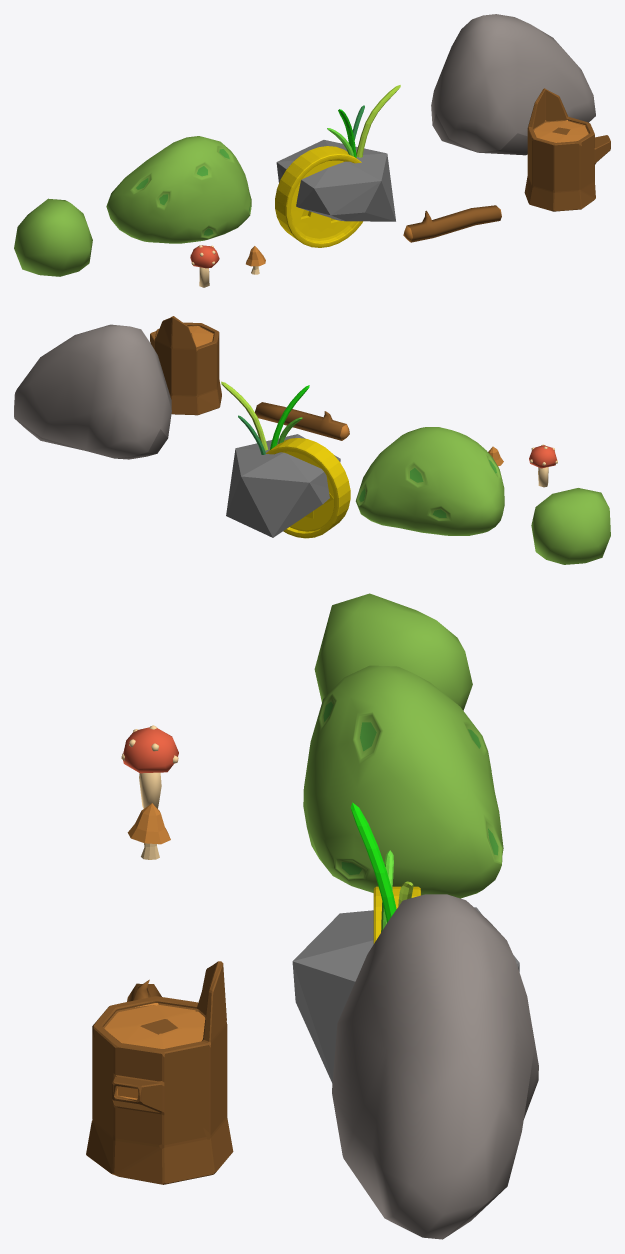
The model's file is pack.fbx.
The picture shows the model from 3 angles, top to bottom: view 1: azimuth 30°, elevation 25°; view 2: azimuth 150°, elevation 25°; view 3: azimuth 270°, elevation 25°; orthographic projection. The views are drawn at different scales.
Parts seen in each view (by area): view 1: Rock4, Bush1, Stump1, Rock1, Bush2, coin, Branch, Cube.002, Mushroom1; view 2: Rock4, Bush1, Rock1, Stump1, Bush2, coin, Branch, Cube.002, Mushroom1; view 3: Rock4, Bush1, Stump1, Bush2, Rock1, Mushroom1, Cube.002, Mushroom2.
Part boxes in pixels (bbox=[...]): Rock4: bbox=[431, 14, 595, 155]; Bush1: bbox=[106, 136, 251, 243]; Stump1: bbox=[524, 88, 610, 211]; Rock1: bbox=[276, 140, 395, 221]; Bush2: bbox=[14, 198, 92, 276]; coin: bbox=[275, 146, 362, 247]; Branch: bbox=[403, 205, 501, 242]; Cube.002: bbox=[327, 85, 400, 157]; Mushroom1: bbox=[190, 245, 219, 287]; Rock4: bbox=[14, 324, 171, 459]; Bush1: bbox=[355, 427, 504, 535]; Rock1: bbox=[226, 434, 340, 537]; Stump1: bbox=[150, 316, 221, 415]; Bush2: bbox=[531, 488, 610, 564]; coin: bbox=[266, 438, 350, 538]; Branch: bbox=[255, 402, 349, 440]; Cube.002: bbox=[221, 381, 309, 454]; Mushroom1: bbox=[529, 444, 557, 487]; Rock4: bbox=[332, 894, 538, 1239]; Bush1: bbox=[303, 665, 503, 898]; Stump1: bbox=[86, 961, 233, 1184]; Bush2: bbox=[314, 593, 472, 710]; Rock1: bbox=[292, 907, 519, 1083]; Mushroom1: bbox=[121, 725, 178, 808]; Cube.002: bbox=[350, 802, 413, 932]; Mushroom2: bbox=[127, 803, 170, 859].
Bounding box in the file's own units: 169 × 48.5 × 57.19.
